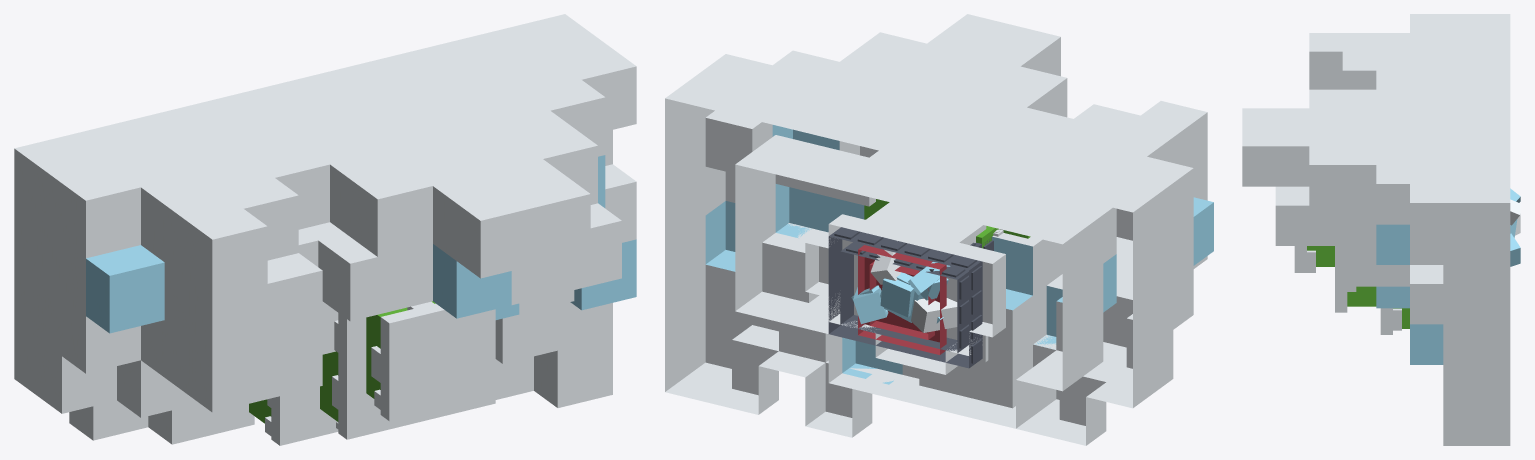
File: Deco_Zona3.fbx
3 renders of one model, left to right at view 1: azimuth 30°, elevation 25°; view 2: azimuth 150°, elevation 25°; view 3: azimuth 270°, elevation 25°, orthographic. The views are drawn at different scales.
Visible parts, largest first — view 1: Monte_Nevado_Grande_Nieve, Pino_Nevado_Grande_Nieve, Monte_Nevado_Grande_Hielo, Monte_Nevado_Mediano_Nieve, Pino_Nevado_Grande_Copa; view 2: Monte_Nevado_Grande_Nieve, Monte_Nevado_Mediano_Nieve, Monte_Nevado_Chico_Nieve, Monte_Nevado_Mediano_Hielo, Monte_Nevado_Grande_Hielo, Escalones_Nevados_1_Piedra, Escalones_Nevados_2_Piedra, Pino_Nevado_Grande_Tronco, Pico_Hielo_HieloCeleste, Pico_Hielo_HieloBlanco, Pino_Nevado_Chico_Tronco, Escalones_Nevados_1_Nieve (+1 smaller); view 3: Monte_Nevado_Grande_Nieve, Monte_Nevado_Grande_Hielo, Pino_Nevado_Grande_Nieve, Pino_Nevado_Grande_Copa, Pico_Hielo_HieloCeleste, Pico_Hielo_HieloBlanco.
Boxes of the visible parts, box(x1,y1,x2,y2) form: Monte_Nevado_Grande_Nieve: box(14, 14, 636, 444); Pino_Nevado_Grande_Nieve: box(265, 301, 495, 445); Monte_Nevado_Grande_Hielo: box(86, 155, 636, 333); Monte_Nevado_Mediano_Nieve: box(212, 222, 405, 432); Pino_Nevado_Grande_Copa: box(249, 301, 435, 423); Monte_Nevado_Grande_Nieve: box(665, 14, 1207, 445); Monte_Nevado_Mediano_Nieve: box(735, 135, 1116, 428); Monte_Nevado_Chico_Nieve: box(805, 202, 1005, 374); Monte_Nevado_Mediano_Hielo: box(775, 184, 1116, 384); Monte_Nevado_Grande_Hielo: box(705, 125, 1213, 310); Escalones_Nevados_1_Piedra: box(828, 227, 993, 368); Escalones_Nevados_2_Piedra: box(840, 242, 968, 352); Pino_Nevado_Grande_Tronco: box(858, 245, 946, 354); Pico_Hielo_HieloCeleste: box(853, 262, 950, 324); Pico_Hielo_HieloBlanco: box(870, 240, 957, 332); Pino_Nevado_Chico_Tronco: box(869, 261, 934, 339); Escalones_Nevados_1_Nieve: box(842, 229, 1000, 362); Monte_Nevado_Grande_Nieve: box(1242, 14, 1510, 445); Monte_Nevado_Grande_Hielo: box(1376, 224, 1443, 364); Pino_Nevado_Grande_Nieve: box(1294, 246, 1401, 334); Pino_Nevado_Grande_Copa: box(1307, 246, 1409, 328); Pico_Hielo_HieloCeleste: box(1510, 188, 1520, 266); Pico_Hielo_HieloBlanco: box(1510, 199, 1520, 235).
Bounding box in the file's own units: 11.2 × 6.72 × 6.98.
